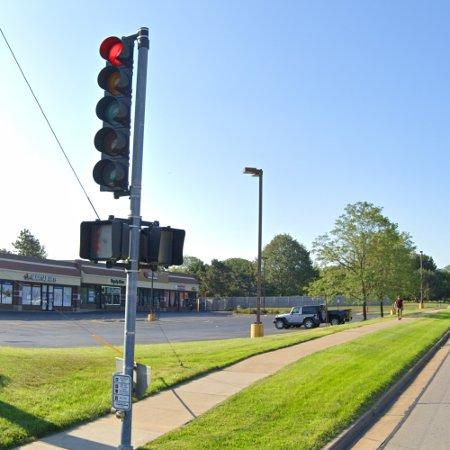traffic lights: (93, 35, 136, 197)
